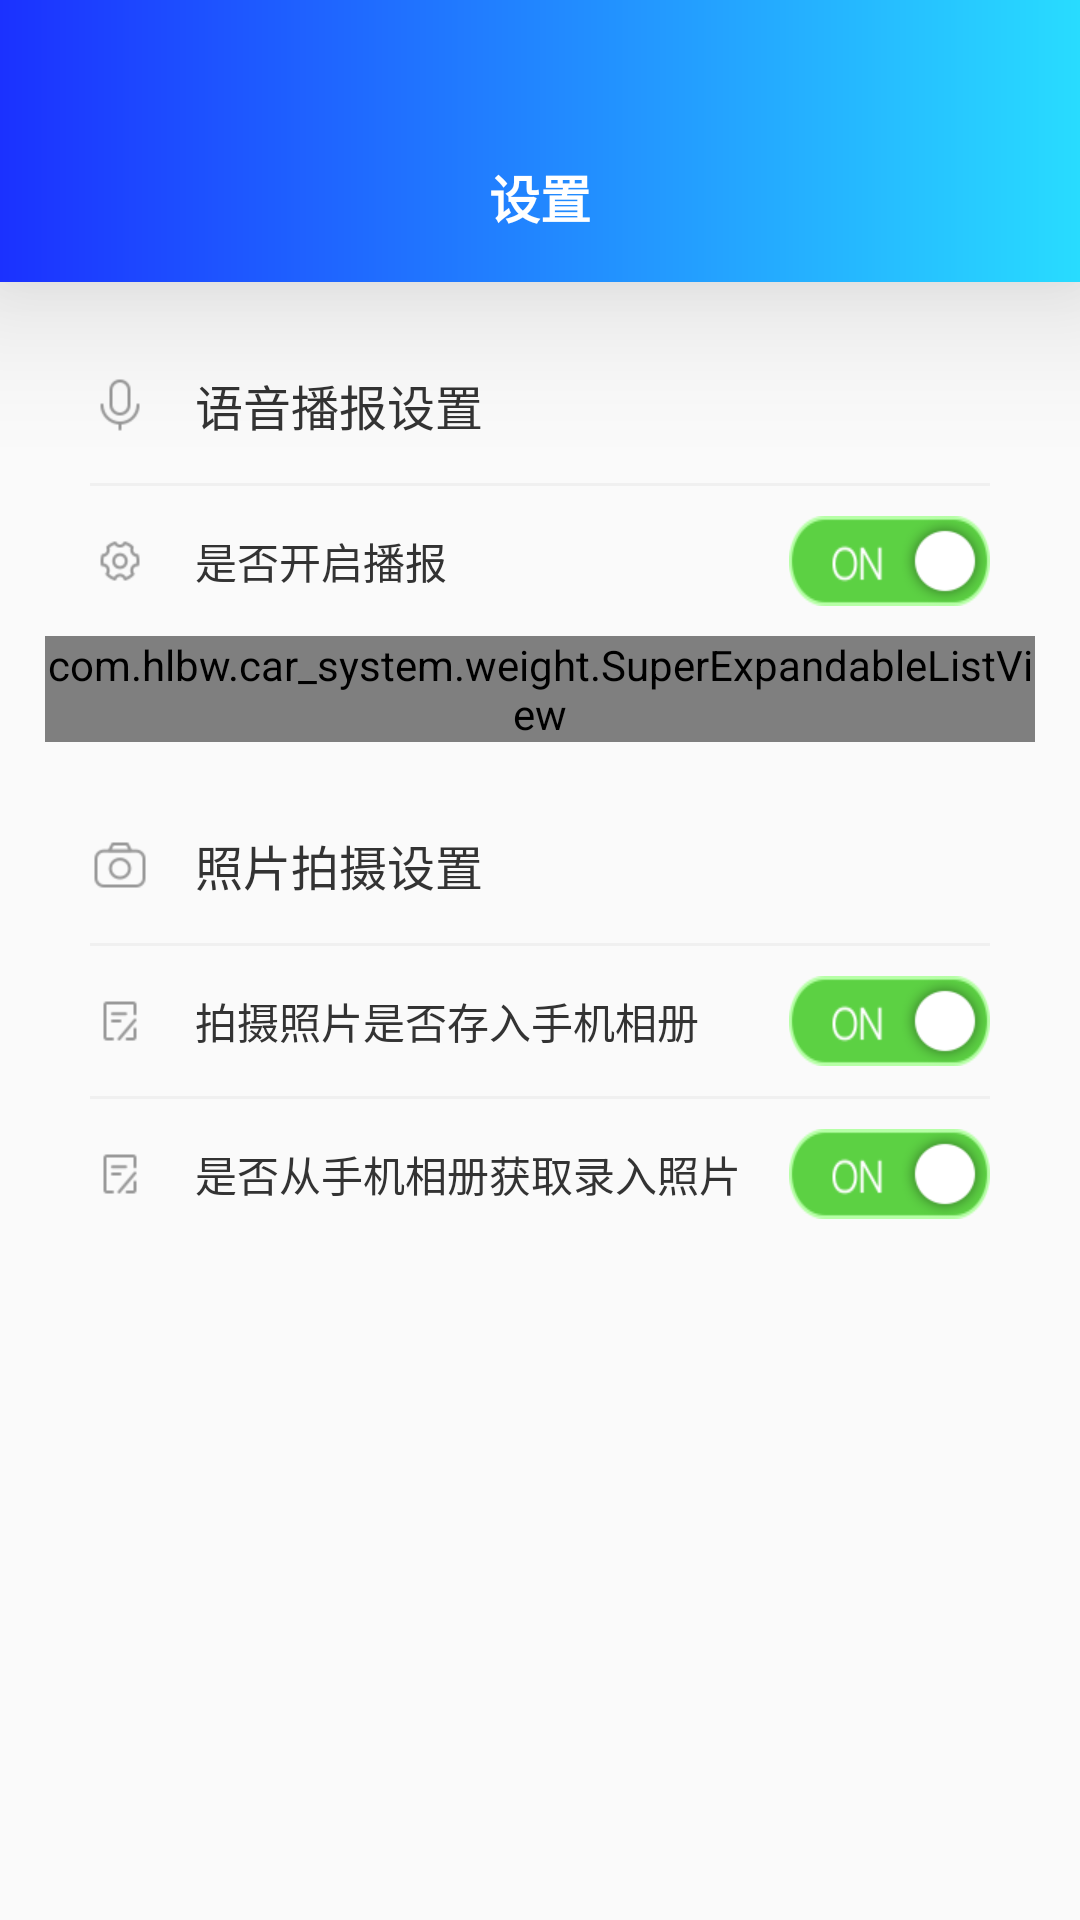

Named icons in this screenshot (1080px x 1920px) and their bounding boxes, [x1=x1, y1=y1, x2=x2, y2=y2]:
setting: [x1=100, y1=541, x2=140, y2=581]
setting voice: [x1=100, y1=379, x2=140, y2=431]
